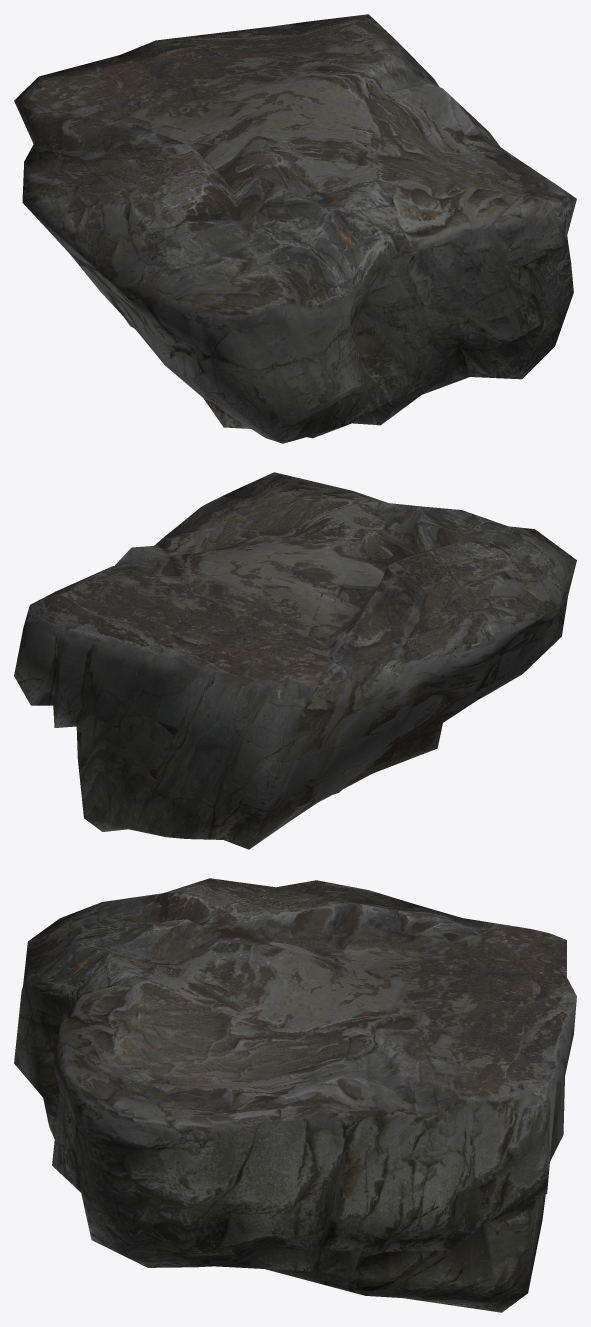
File: Asteroid 3.fbx
The picture shows the model from 3 angles, top to bottom: view 1: azimuth 30°, elevation 25°; view 2: azimuth 150°, elevation 25°; view 3: azimuth 270°, elevation 25°; orthographic projection. The views are drawn at different scales.
Visible parts, largest first — view 1: Aset_nature_rock_M_ukopeess_LOD5; view 2: Aset_nature_rock_M_ukopeess_LOD5; view 3: Aset_nature_rock_M_ukopeess_LOD5.
Part boxes in pixels (left/top/right/bottom): Aset_nature_rock_M_ukopeess_LOD5: left=14, top=14, right=576, bottom=443; Aset_nature_rock_M_ukopeess_LOD5: left=14, top=472, right=576, bottom=849; Aset_nature_rock_M_ukopeess_LOD5: left=14, top=878, right=576, bottom=1312.
Size of the model in its own units: 182 by 105 by 184.
